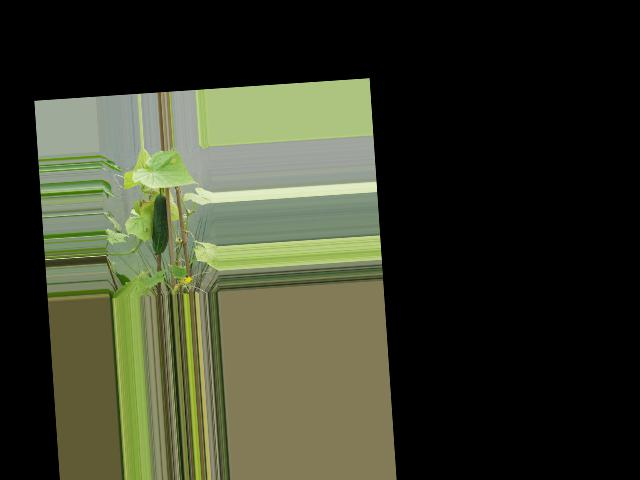cucumber: (149, 194, 170, 255)
